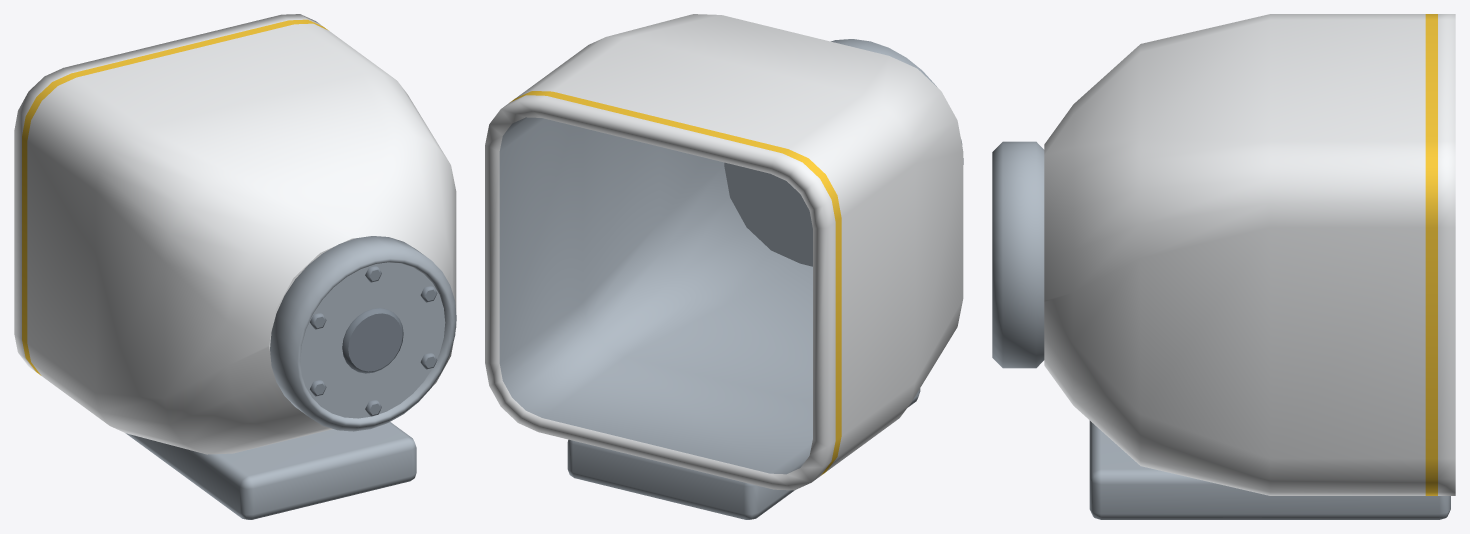
The model's file is frame-hub.glb.
3 renders of one model, left to right at view 1: azimuth 30°, elevation 25°; view 2: azimuth 150°, elevation 25°; view 3: azimuth 270°, elevation 25°, orthographic. The views are drawn at different scales.
Visible parts, largest first — view 1: rotor_housing_open_back, rotor_mount_flange, hub_mounting_keel, rotor_shaft_socket; view 2: rotor_housing_open_back, hub_mounting_keel, rotor_mount_flange; view 3: rotor_housing_open_back, hub_mounting_keel, rotor_mount_flange.
Boxes of the visible parts, x1,y1,x2,y2 form: rotor_housing_open_back: (14, 14, 456, 454); rotor_mount_flange: (270, 236, 456, 431); hub_mounting_keel: (125, 422, 416, 519); rotor_shaft_socket: (342, 308, 403, 373); rotor_housing_open_back: (485, 14, 963, 490); hub_mounting_keel: (567, 388, 920, 519); rotor_mount_flange: (831, 39, 963, 164); rotor_housing_open_back: (1044, 14, 1455, 495); hub_mounting_keel: (1089, 420, 1450, 519); rotor_mount_flange: (992, 141, 1044, 368).
Size of the model in its own units: 0.9 by 0.94 by 1.
